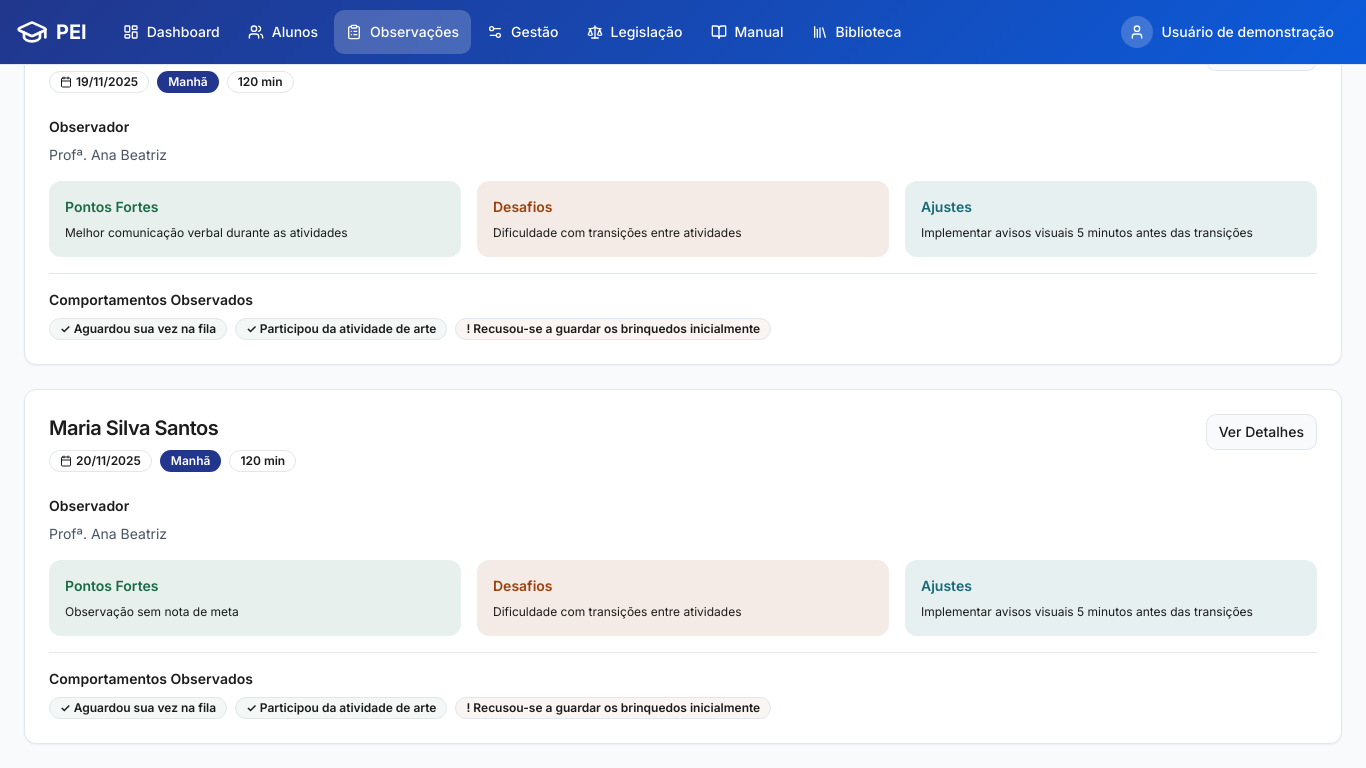
Test: Detalhe da observação: só o que foi registrado › observação que nenhuma meta cita diz isso, em vez de listar objetivo nenhum
(page scrolled)
Click the button "Ver Detalhes" at (1261, 432), box [1206, 414, 1317, 450]
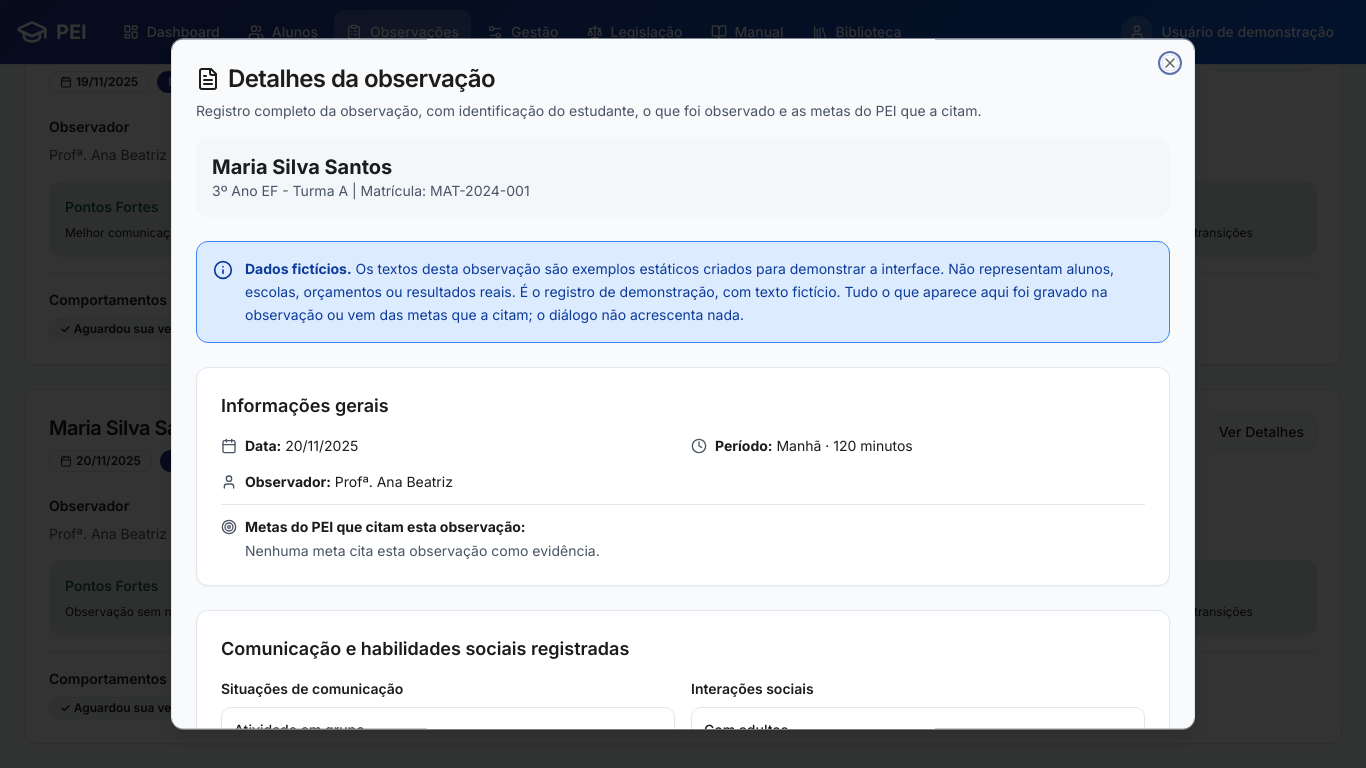
Result: the text "Nenhuma meta cita esta observação como evidência." is shown at [245, 542, 600, 562]
